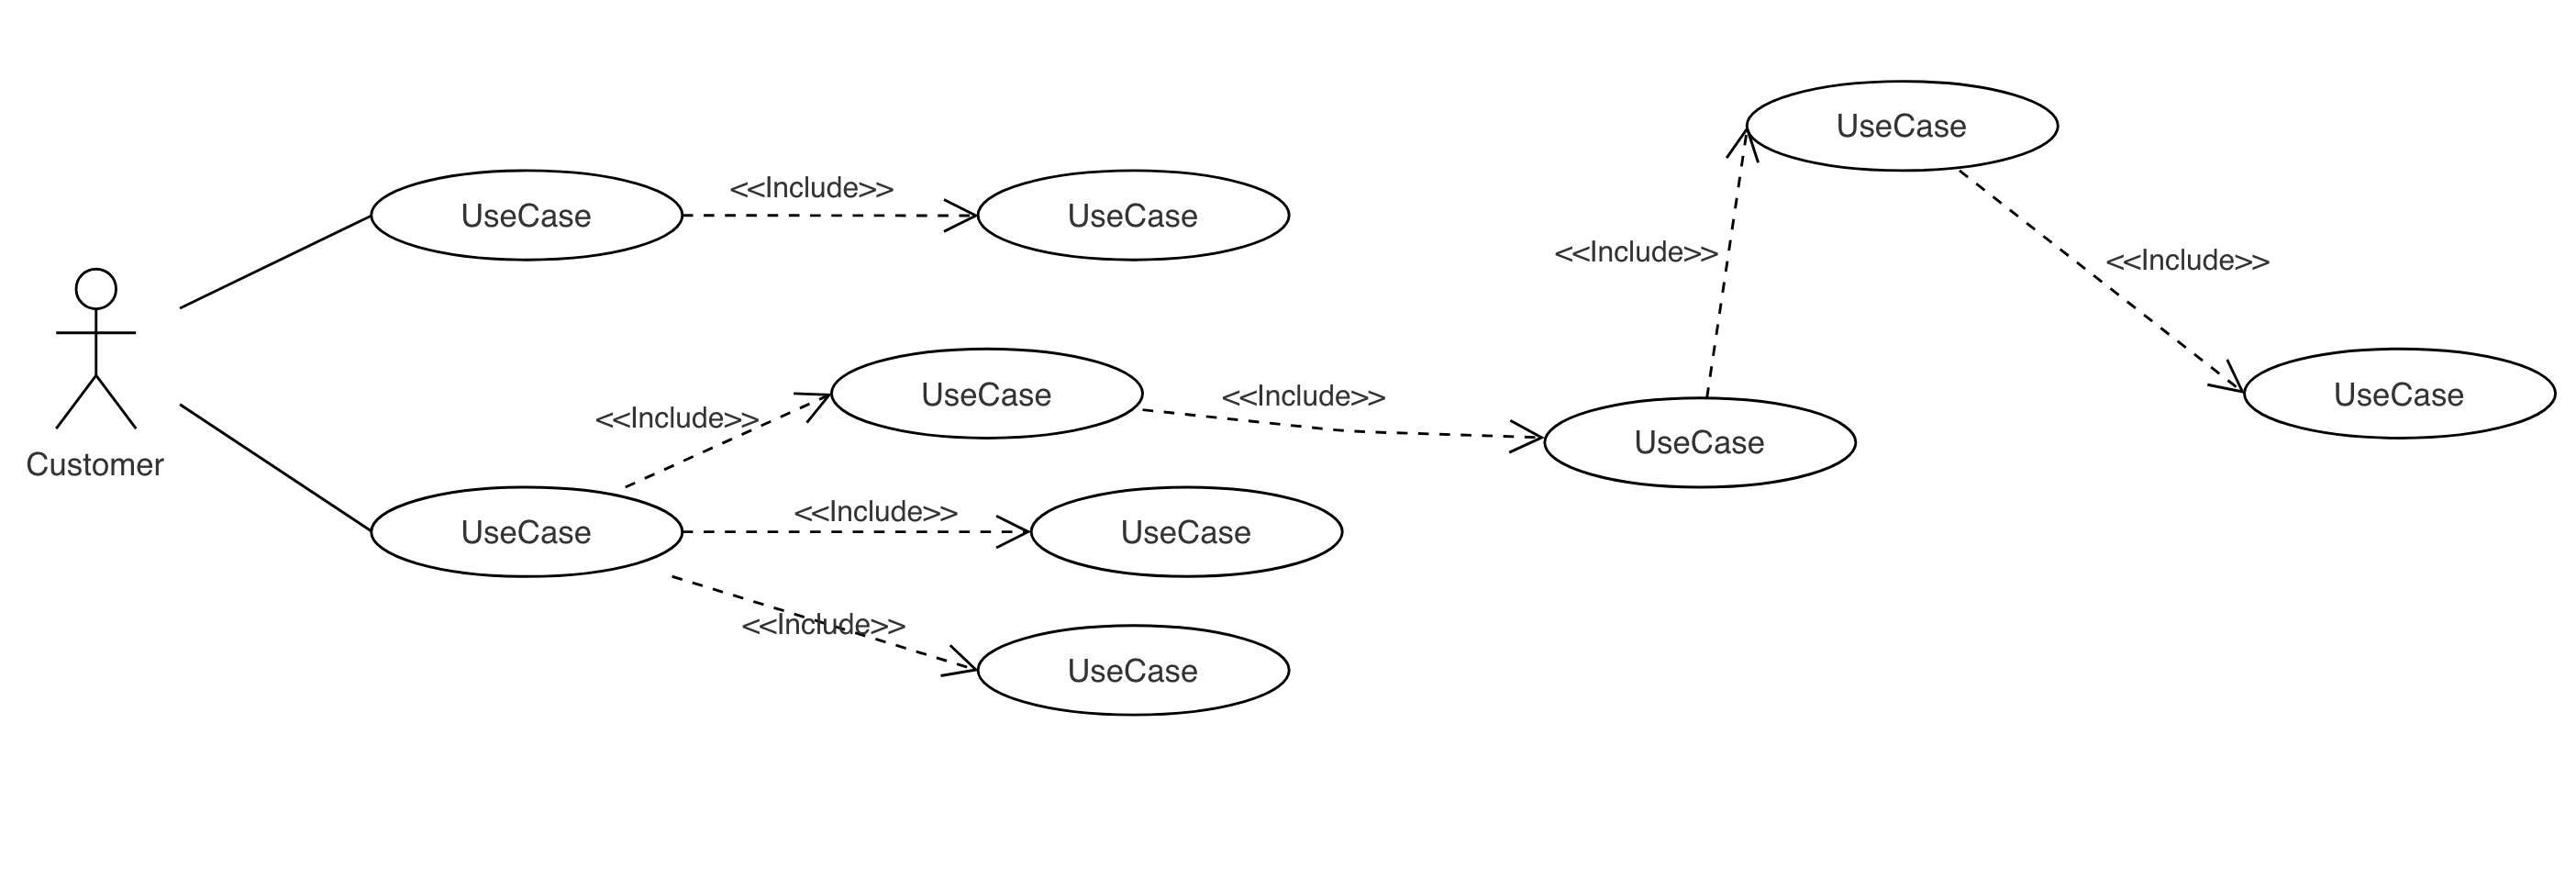actor: (49, 263, 148, 435)
association: (1968, 174, 2247, 396), (672, 572, 981, 675), (176, 398, 376, 534), (171, 207, 375, 312), (623, 391, 836, 491), (1142, 406, 1544, 458), (1705, 122, 1760, 393), (688, 509, 1027, 550), (685, 194, 977, 233)
text: (2321, 371, 2486, 417), (1549, 230, 1723, 271), (1630, 419, 1776, 467), (452, 191, 603, 237), (726, 168, 900, 207), (790, 493, 964, 531), (2101, 242, 2280, 278), (1222, 380, 1392, 417), (1827, 105, 1976, 148), (1063, 647, 1206, 692), (918, 373, 1066, 414), (591, 399, 756, 435), (739, 608, 910, 642), (1065, 197, 1209, 237), (1117, 509, 1250, 550), (457, 513, 593, 552), (21, 447, 174, 481)
use_case: (365, 163, 682, 265), (366, 483, 685, 582), (1028, 483, 1346, 582), (2239, 347, 2558, 444), (1541, 394, 1858, 491), (977, 623, 1291, 720), (1743, 77, 2060, 173), (831, 347, 1145, 442)
